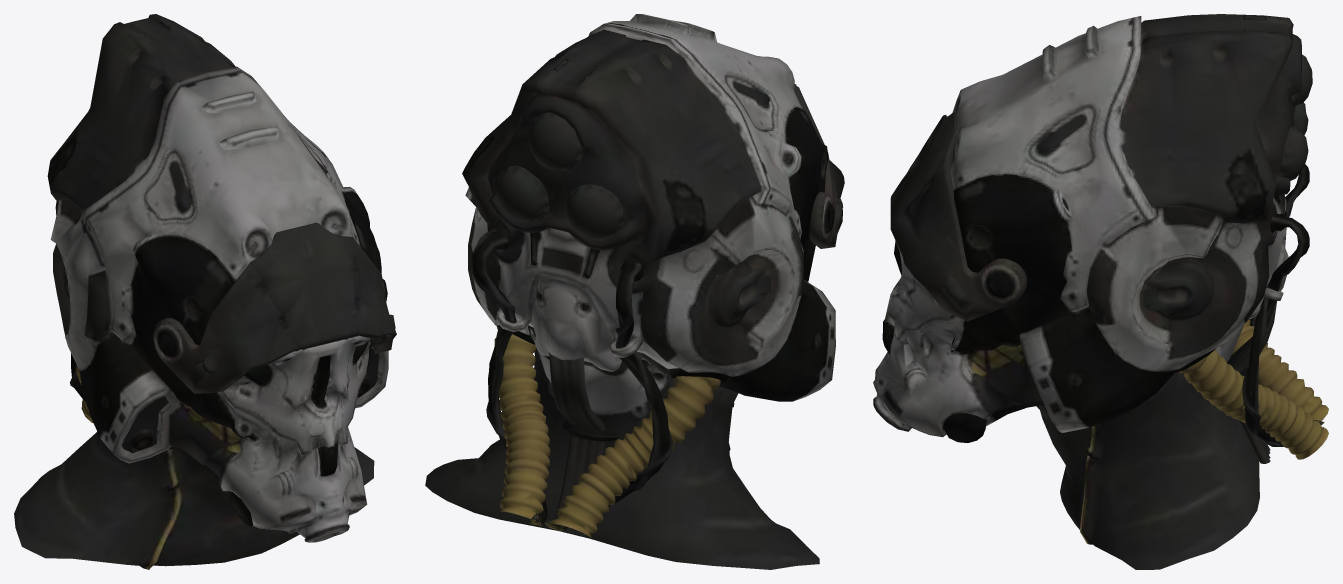
File: helmet.glb
The picture shows the model from 3 angles, left to right: view 1: azimuth 30°, elevation 25°; view 2: azimuth 150°, elevation 25°; view 3: azimuth 270°, elevation 25°; orthographic projection. The views are drawn at different scales.
Visible parts, largest first — view 1: SciFiHelmet; view 2: SciFiHelmet; view 3: SciFiHelmet.
Part boxes in pixels (x1,y1,x2,y2): SciFiHelmet: (14, 14, 396, 569); SciFiHelmet: (425, 14, 844, 569); SciFiHelmet: (873, 14, 1328, 569).
Bounding box in the file's own units: 1.58 × 2 × 1.72.
Materials: 1 (1 with a texture image).
